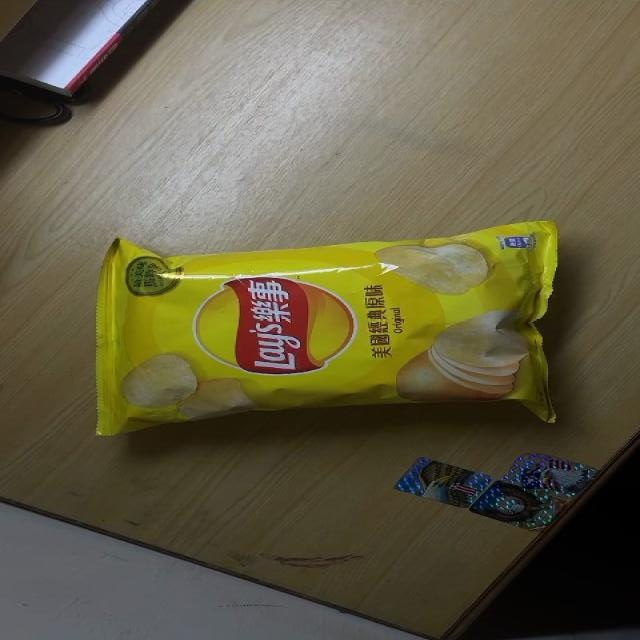Lay-s-original: (94, 218, 564, 438)
